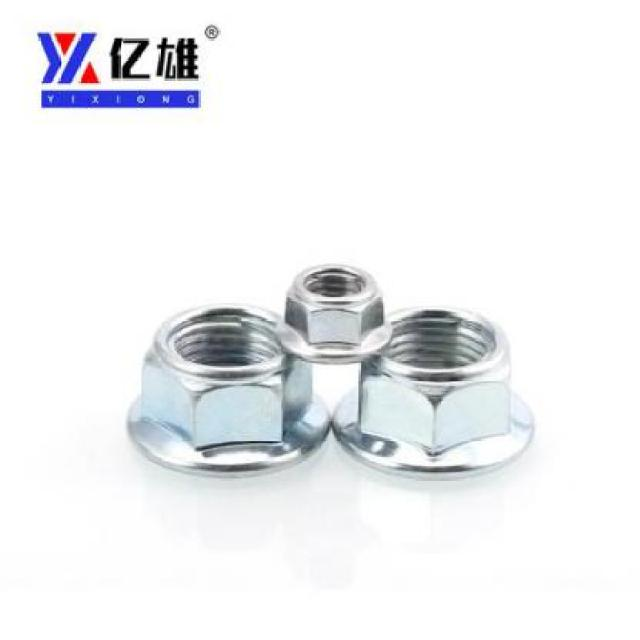Nut: (331, 303, 536, 482), (127, 301, 333, 478), (274, 260, 392, 364)
